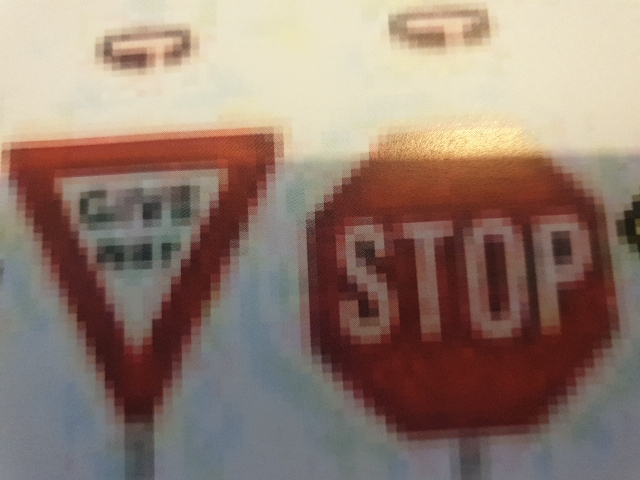giveway: (7, 135, 274, 405)
stop: (302, 124, 597, 410)
